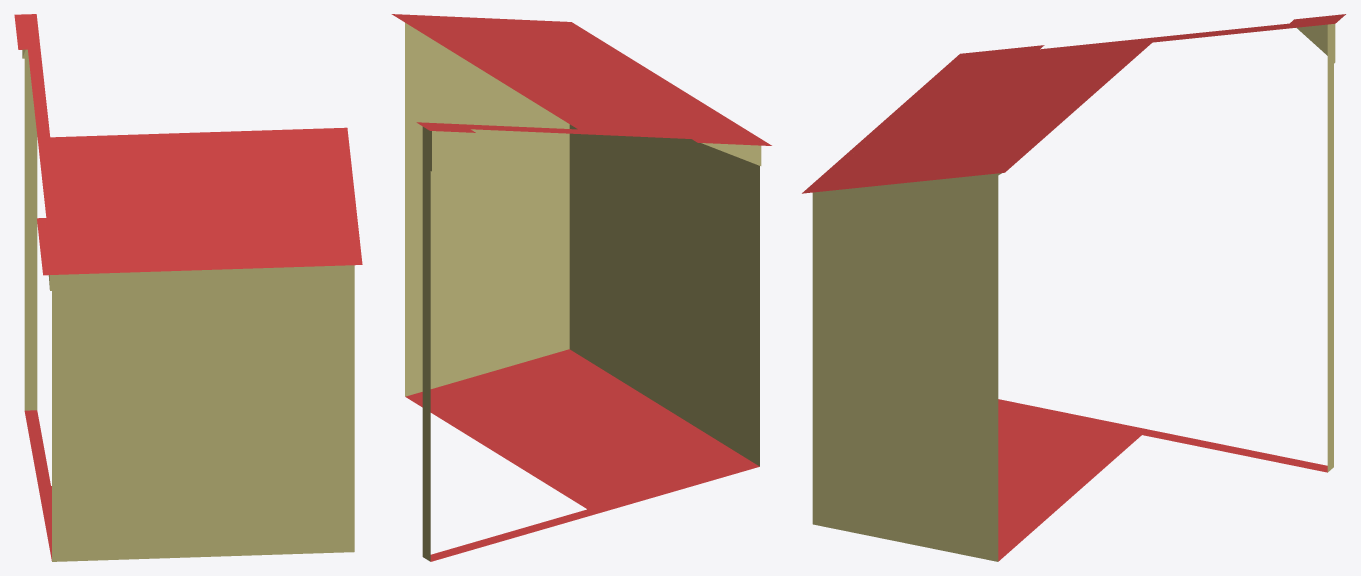
3 views of the same model, side by side, from view 1: azimuth 30°, elevation 25°; view 2: azimuth 150°, elevation 25°; view 3: azimuth 270°, elevation 25° (orthographic). The views are drawn at different scales.
Bounding box in the file's own units: 12.56 × 15.97 × 14.56.
